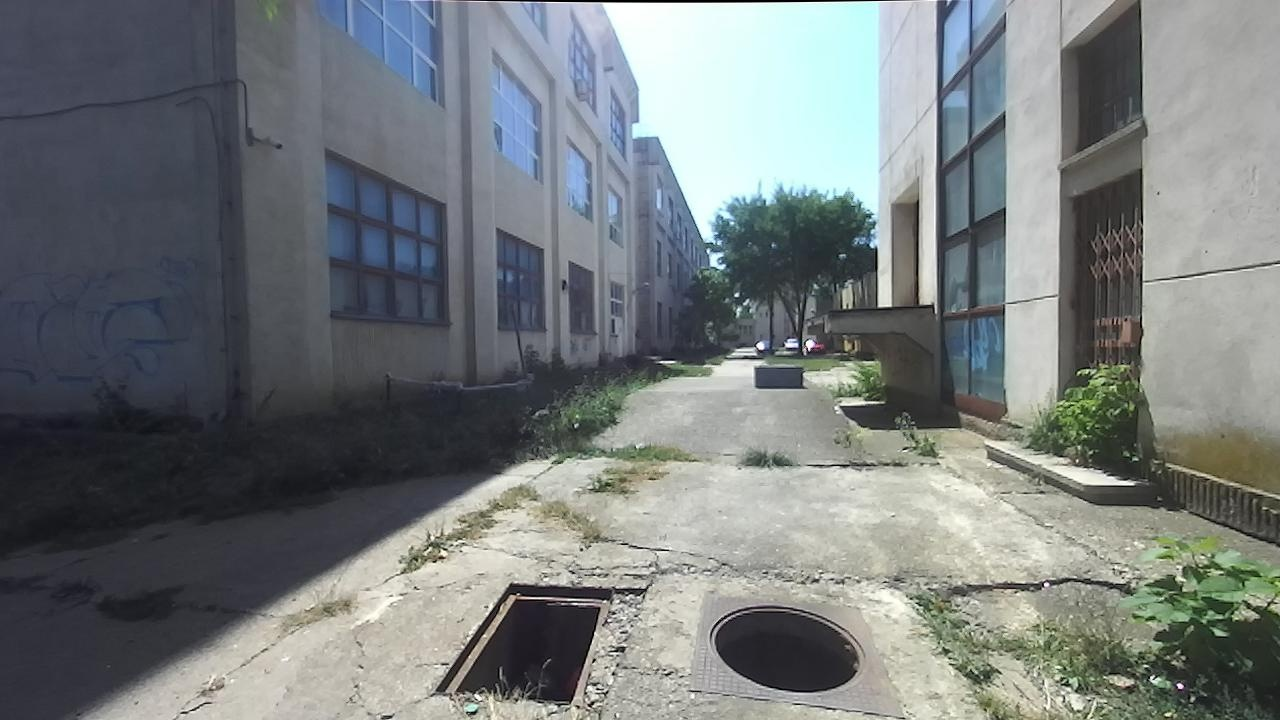drain: (420, 579, 613, 703), (703, 601, 868, 699)
